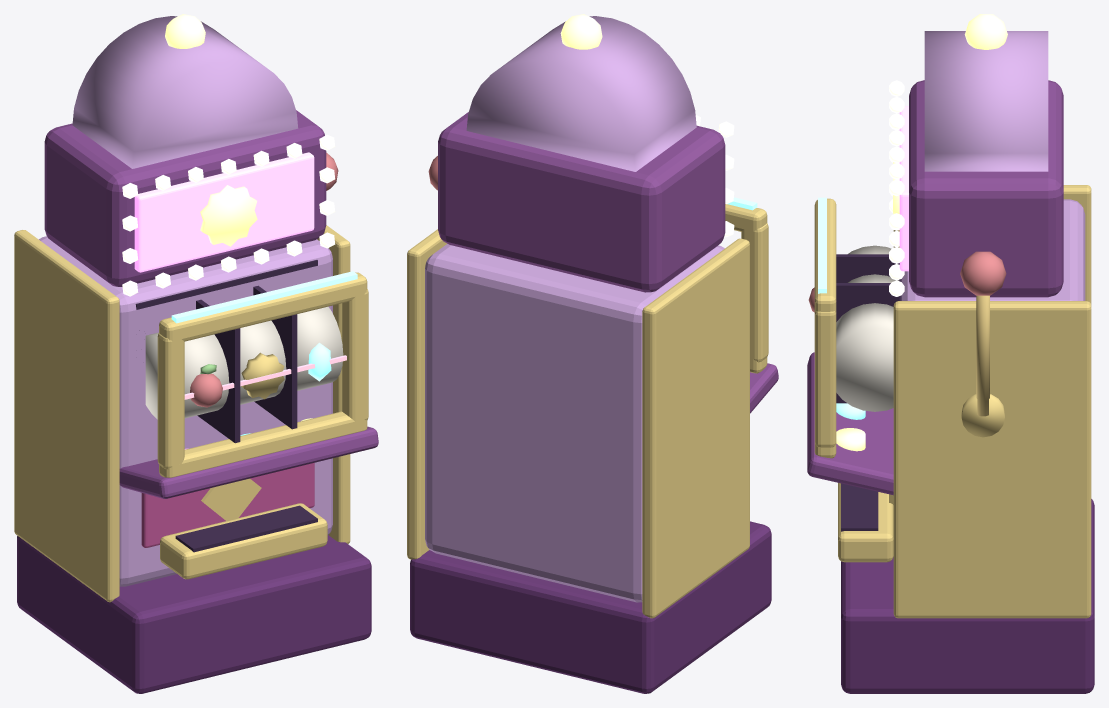
The model's file is pc_slot_b.glb.
3 renders of one model, left to right at view 1: azimuth 30°, elevation 25°; view 2: azimuth 150°, elevation 25°; view 3: azimuth 270°, elevation 25°, orthographic. The views are drawn at different scales.
Visible parts, largest first — view 1: pc_slot_b; view 2: pc_slot_b; view 3: pc_slot_b.
Part boxes in pixels (x1=…): pc_slot_b: x1=14, y1=14, x2=378, y2=693; pc_slot_b: x1=407, y1=14, x2=778, y2=693; pc_slot_b: x1=807, y1=14, x2=1094, y2=693.
Bounding box in the file's own units: 1.04 × 2.22 × 0.9289.
